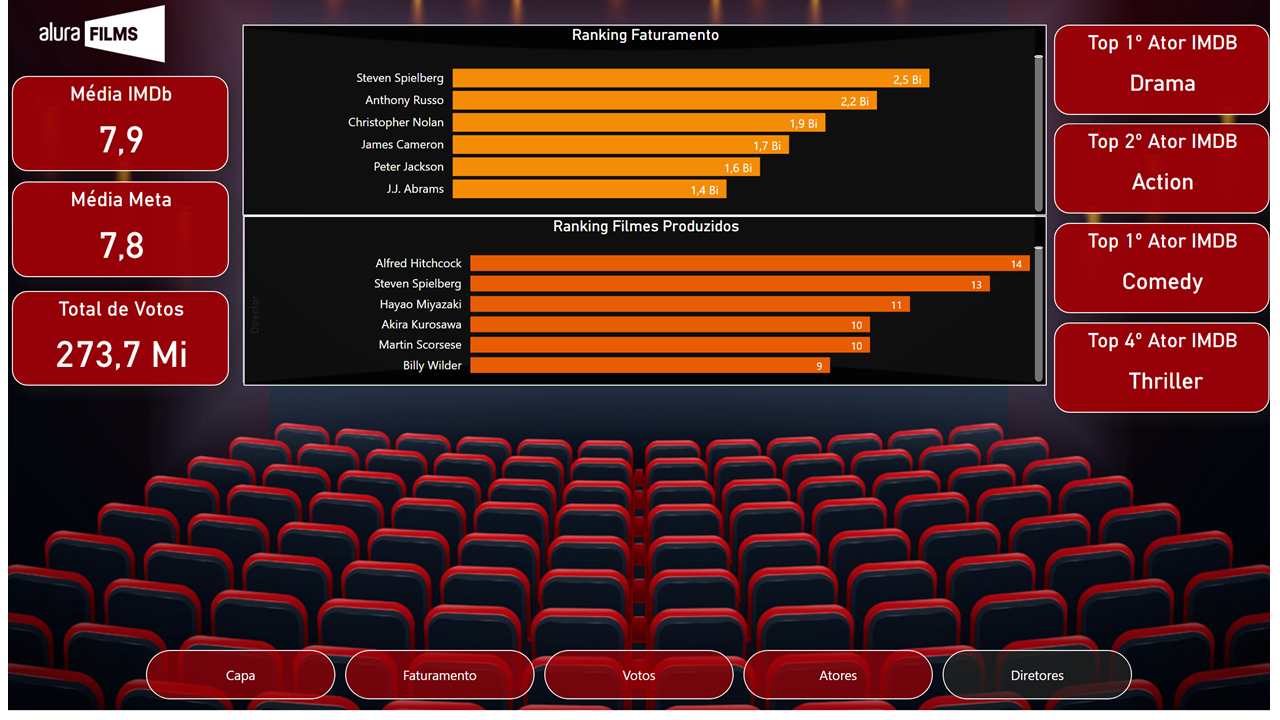

This screenshot's page, from the dashboard's own definition file:
{"tool":"powerbi","page":{"name":"Diretores","canvas":[1280,720],"ordinal":4},"visuals":[{"type":"image","box":[0,0,190.7,68.7],"z":0},{"type":"card","title":"Média IMDb","fields":{"Values":["_Medidas.Media_IMDB"]},"box":[4.1,76.9,219.5,96.4],"z":1000},{"type":"card","title":"Total de Votos","fields":{"Values":["Sum(Filmes.Total_de_Votos)"]},"box":[4.3,294.6,219.9,96.1],"z":2000},{"type":"card","title":"Média Meta","fields":{"Values":["_Medidas.Media_META"]},"box":[4.3,183.6,219.9,97.1],"z":3000},{"type":"barChart","title":"Ranking Faturamento","fields":{"Category":["Agregado_Diretor.Director"],"Y":["_Medidas.Faturamento_Total"]},"box":[237.7,25.2,815.3,193.3],"z":4000},{"type":"barChart","title":"Ranking Filmes Produzidos","fields":{"Y":["_Medidas.Qtde_Filmes_Diretor"],"Category":["Agregado_Diretor.Director"]},"box":[239.1,218.8,814.5,171.9],"z":5000},{"type":"card","title":"Top 2º Ator IMDB","fields":{"Values":["_Medidas.3rd Value"]},"box":[1061.5,124.9,218.5,91.3],"z":7000},{"type":"card","title":"Top 1º Ator IMDB","fields":{"Values":["_Medidas.Top_3_Genre_Diretor"]},"box":[1061.5,225.7,218.5,91.3],"z":8000},{"type":"card","title":"Top 4º Ator IMDB","fields":{"Values":["_Medidas.Top_4_Genre_Diretor"]},"box":[1061.5,326.6,218.5,91.3],"z":9000},{"type":"pageNavigator","title":"ad","box":[140.5,659.2,1000.2,50.4],"z":10000},{"type":"card","title":"Top 1º Ator IMDB","fields":{"Values":["_Medidas.Top_1_Genre_Diretor"]},"box":[1061.5,25.2,218.5,91.3],"z":10001}]}

Visuals, with their boxes in screenshot pixels (x1, y1, x2, y2), scaled from the page's 1280x720 canvas onto the 1280x720 screenshot:
image: <bbox>0, 0, 191, 69</bbox>
"Média IMDb" card: <bbox>4, 77, 224, 173</bbox>
"Total de Votos" card: <bbox>4, 295, 224, 391</bbox>
"Média Meta" card: <bbox>4, 184, 224, 281</bbox>
"Ranking Faturamento" barChart: <bbox>238, 25, 1053, 218</bbox>
"Ranking Filmes Produzidos" barChart: <bbox>239, 219, 1054, 391</bbox>
"Top 2º Ator IMDB" card: <bbox>1062, 125, 1279, 216</bbox>
"Top 1º Ator IMDB" card: <bbox>1062, 226, 1279, 317</bbox>
"Top 4º Ator IMDB" card: <bbox>1062, 327, 1279, 418</bbox>
"ad" pageNavigator: <bbox>140, 659, 1141, 710</bbox>
"Top 1º Ator IMDB" card: <bbox>1062, 25, 1279, 116</bbox>
